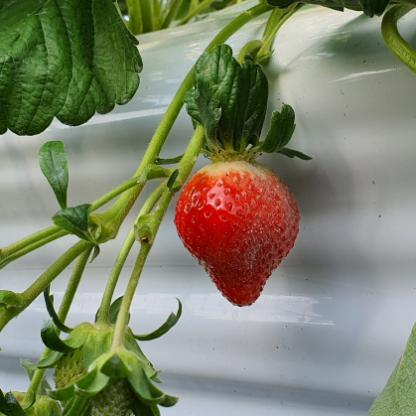Strawberry_Powdery_Mildew_Fruit: (229, 162, 300, 278)
